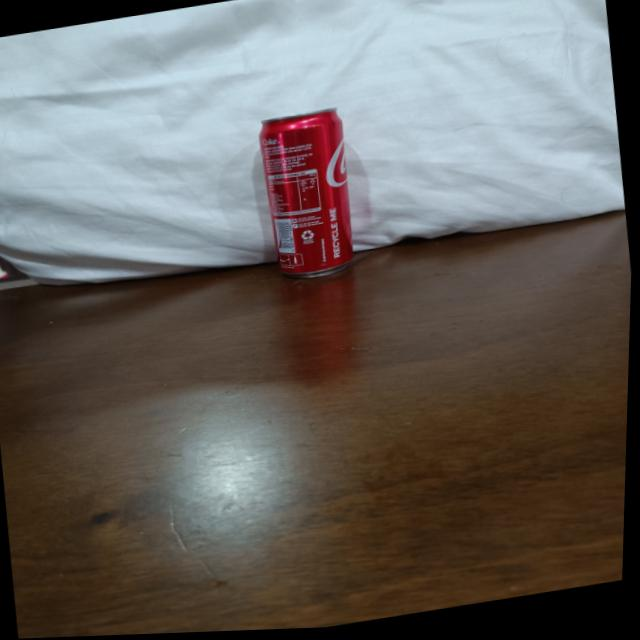coke: (251, 104, 366, 291)
